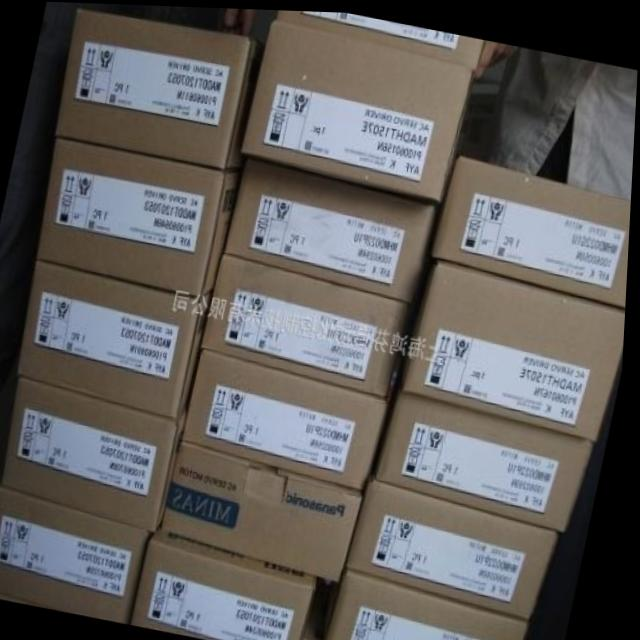box: (243, 19, 475, 198), (406, 259, 628, 438), (55, 8, 264, 169), (41, 140, 243, 299), (380, 386, 600, 528), (226, 154, 439, 300), (203, 253, 416, 397), (21, 262, 217, 416), (434, 154, 633, 302), (351, 478, 563, 616), (185, 348, 395, 487), (166, 440, 370, 583), (7, 375, 192, 528), (0, 486, 157, 621), (138, 528, 320, 640), (334, 564, 537, 640), (275, 8, 483, 66)
